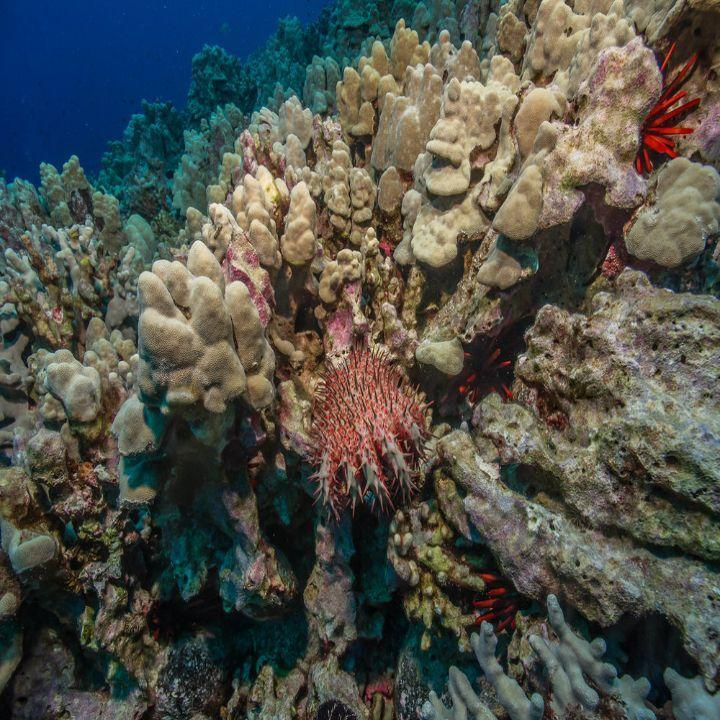Healthy Coral: (31, 69, 684, 696)
